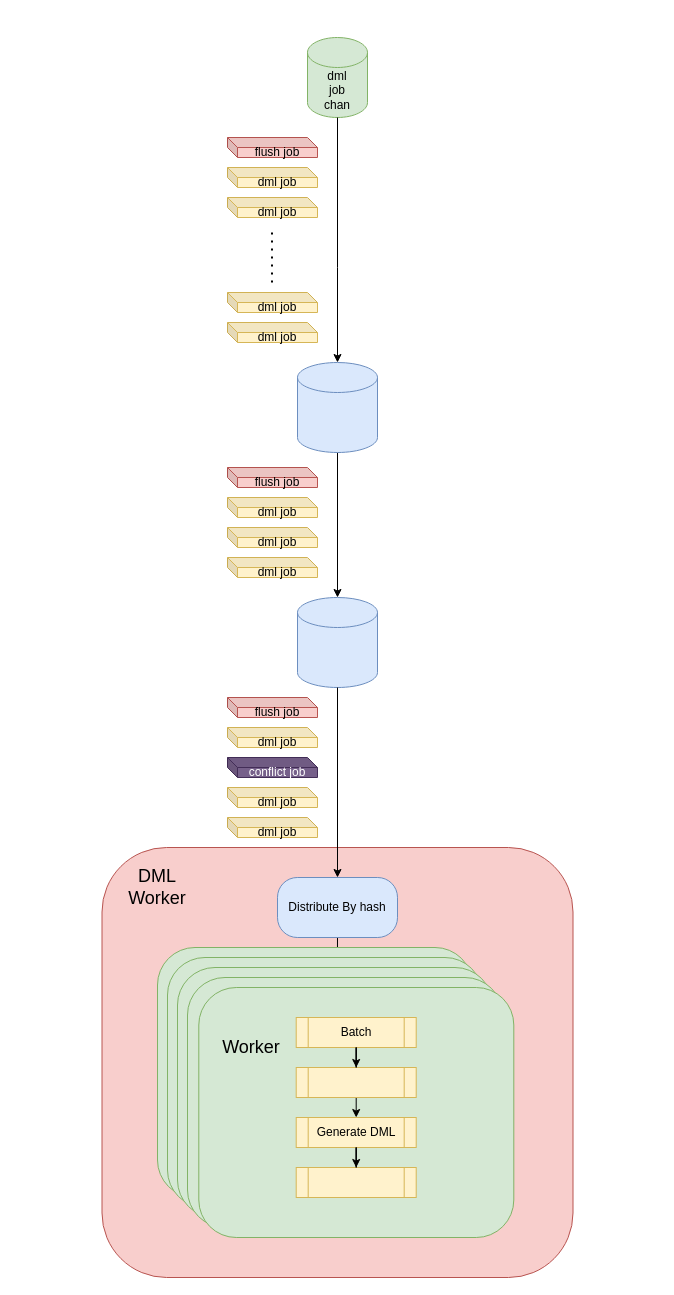
The diagram is 674 pixels wide and 1295 high, and some of its shapes have lost their labels. The centre of each missing label's shape, as x and y in pixels:
Causality: the point at 337,642
Compactor: the point at 337,407
Execute: the point at 355,1182
Merge: the point at 355,1082
